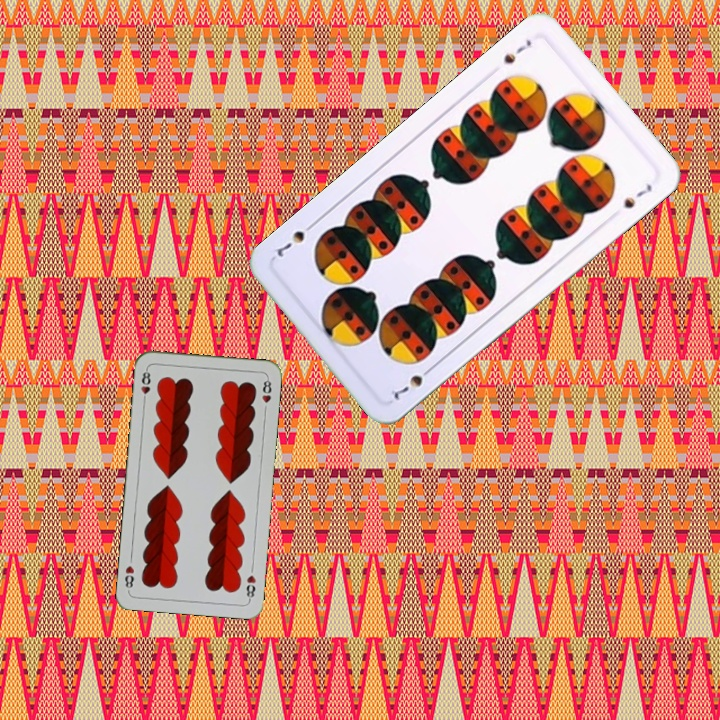H8: (137, 365, 153, 405), (242, 571, 258, 603)
S7: (389, 362, 437, 402), (499, 35, 534, 67)
